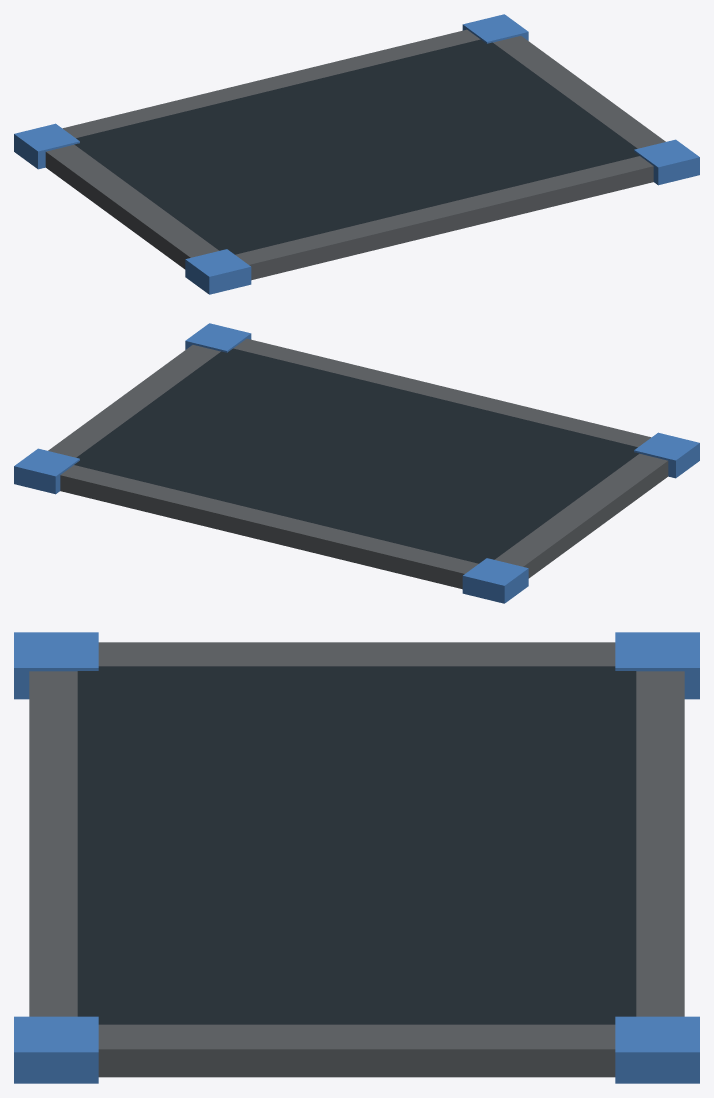
The model's file is Care_Tablet.fbx.
The picture shows the model from 3 angles, top to bottom: view 1: azimuth 30°, elevation 25°; view 2: azimuth 150°, elevation 25°; view 3: azimuth 270°, elevation 25°; orthographic projection. The views are drawn at different scales.
Visible parts, largest first — view 1: Screen, Care_Tablet; view 2: Screen, Care_Tablet; view 3: Screen, Care_Tablet.
Boxes of the visible parts, <box> form: Screen: <box>74,39,639,254</box>; Care_Tablet: <box>14,14,699,294</box>; Screen: <box>74,348,639,563</box>; Care_Tablet: <box>14,323,699,603</box>; Screen: <box>77,666,636,1024</box>; Care_Tablet: <box>14,632,699,1083</box>.
Bounding box in the file's own units: 0.258 × 0.009 × 0.178.
